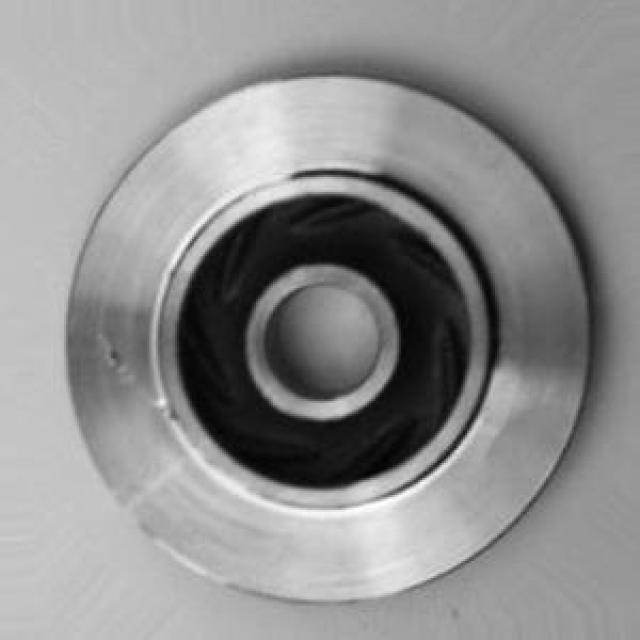Defect: (98, 337, 124, 377)
